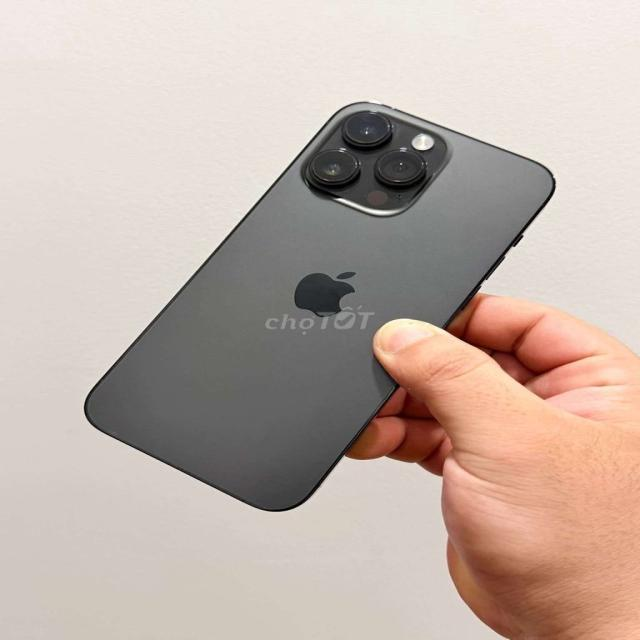gen_14: (72, 88, 560, 515)
